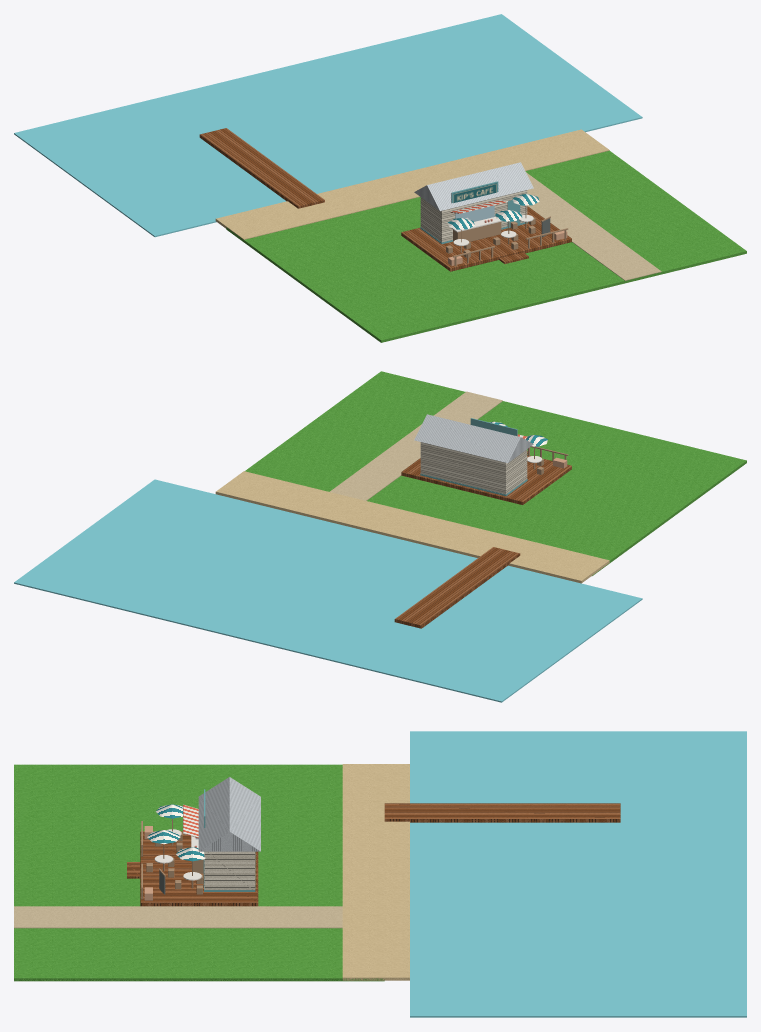
The model's file is quokka-cafe.glb.
The picture shows the model from 3 angles, top to bottom: view 1: azimuth 30°, elevation 25°; view 2: azimuth 150°, elevation 25°; view 3: azimuth 270°, elevation 25°; orthographic projection. The views are drawn at different scales.
Parts seen in each view (by area): view 1: sea, grass, beach, sandpath, deck, jetty, roof, cafe, counter; view 2: sea, grass, beach, sandpath, cafe, jetty, roof, deck; view 3: sea, grass, beach, sandpath, jetty, roof, deck, cafe, awning.
Boxes of the visible parts, bbox=[...] form: sea: bbox=[14, 14, 642, 237]; grass: bbox=[226, 150, 746, 342]; beach: bbox=[215, 129, 609, 239]; sandpath: bbox=[526, 172, 661, 280]; deck: bbox=[401, 206, 571, 271]; jetty: bbox=[199, 128, 324, 208]; roof: bbox=[414, 162, 533, 210]; cafe: bbox=[420, 190, 527, 242]; counter: bbox=[453, 222, 501, 241]; sea: bbox=[14, 479, 642, 702]; grass: bbox=[245, 371, 746, 575]; beach: bbox=[215, 471, 609, 583]; sandpath: bbox=[329, 391, 502, 500]; cafe: bbox=[420, 442, 527, 494]; jetty: bbox=[394, 547, 520, 628]; roof: bbox=[414, 414, 533, 463]; deck: bbox=[401, 455, 571, 504]; sea: bbox=[410, 731, 746, 1017]; grass: bbox=[14, 764, 384, 981]; beach: bbox=[342, 764, 409, 980]; sandpath: bbox=[14, 906, 342, 928]; jetty: bbox=[384, 803, 620, 822]; roof: bbox=[198, 777, 260, 851]; deck: bbox=[140, 831, 258, 906]; cafe: bbox=[204, 851, 254, 889]; awning: bbox=[183, 804, 198, 838].
Size of the model in its own units: 40 by 4.75 by 43.5.
18 materials, 9 textured.
